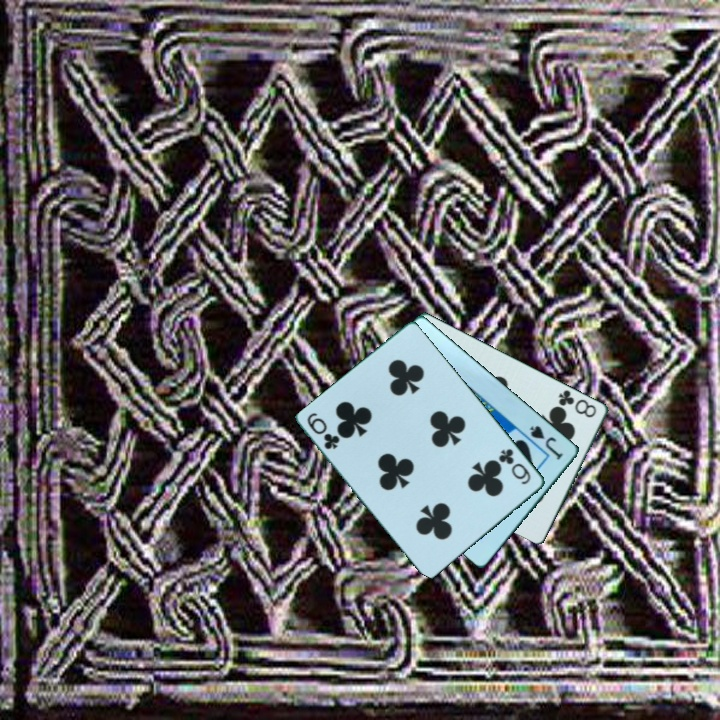6c: (304, 409, 343, 454), (496, 445, 534, 488)
8c: (555, 386, 600, 421)
Js: (526, 422, 567, 463)
